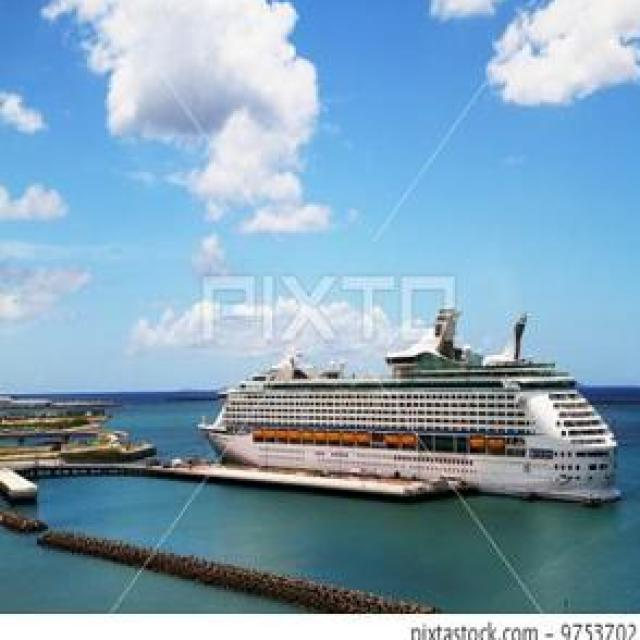passenger ship: (198, 334, 612, 498)
